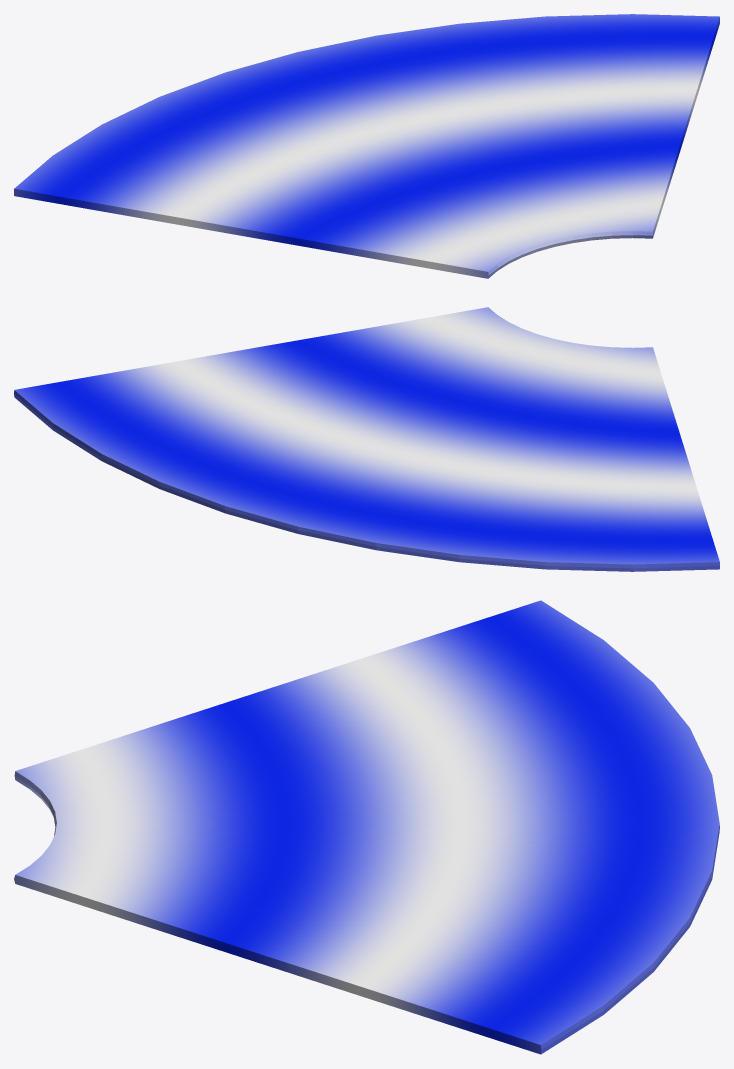
File: blue.wave.fbx
3 views of the same model, one above another, from view 1: azimuth 30°, elevation 25°; view 2: azimuth 150°, elevation 25°; view 3: azimuth 270°, elevation 25° (orthographic). The views are drawn at different scales.
Visible parts, largest first — view 1: Torus; view 2: Torus; view 3: Torus.
Part boxes in pixels (x1,y1,x2,y2): Torus: [14, 14, 719, 278]; Torus: [14, 307, 719, 571]; Torus: [14, 600, 719, 1054].
Size of the model in its own units: 150 by 1.5 by 101.
Materials: 1 (1 with a texture image).
